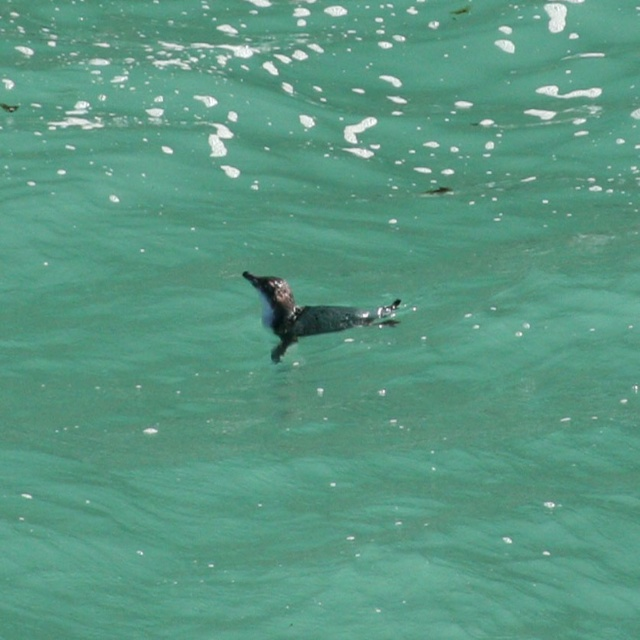Penguin: (239, 271, 396, 358)
